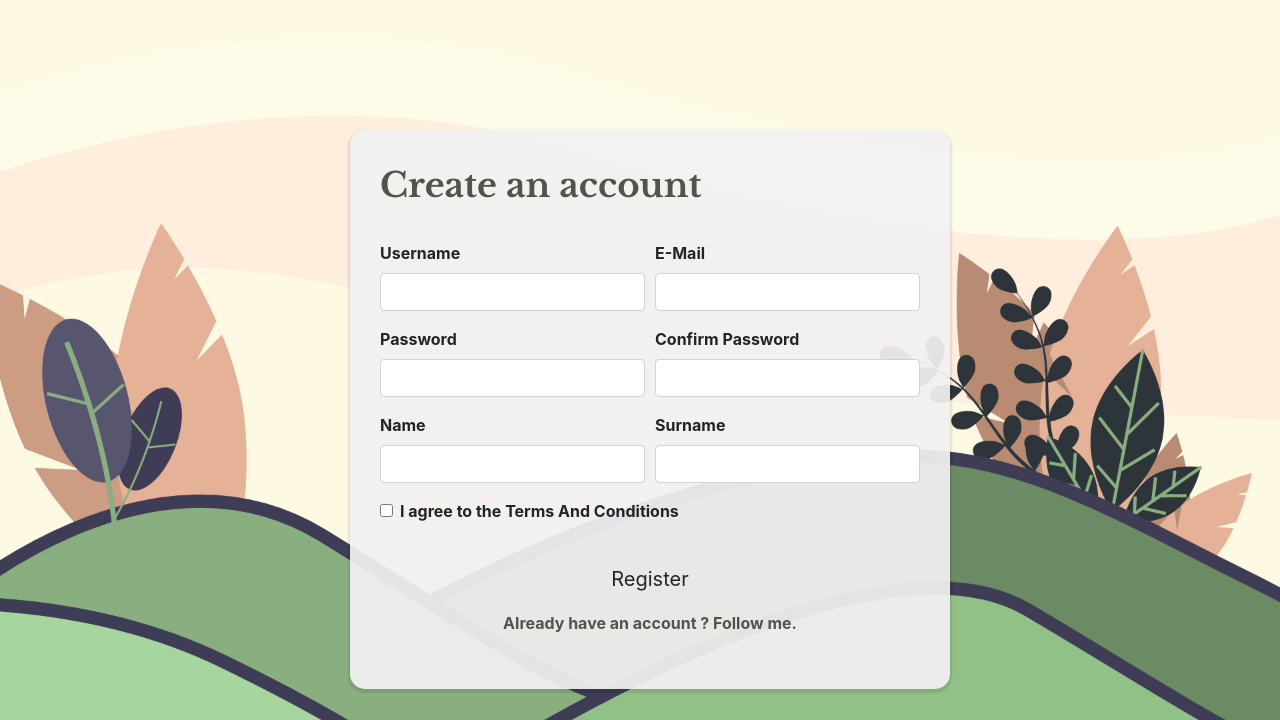
Test case: handleChange works correctly and sends error message for wrong Email
Type "max" into the field named "E-Mail" at (788,292), box x1=655 y1=273 x2=920 y2=311
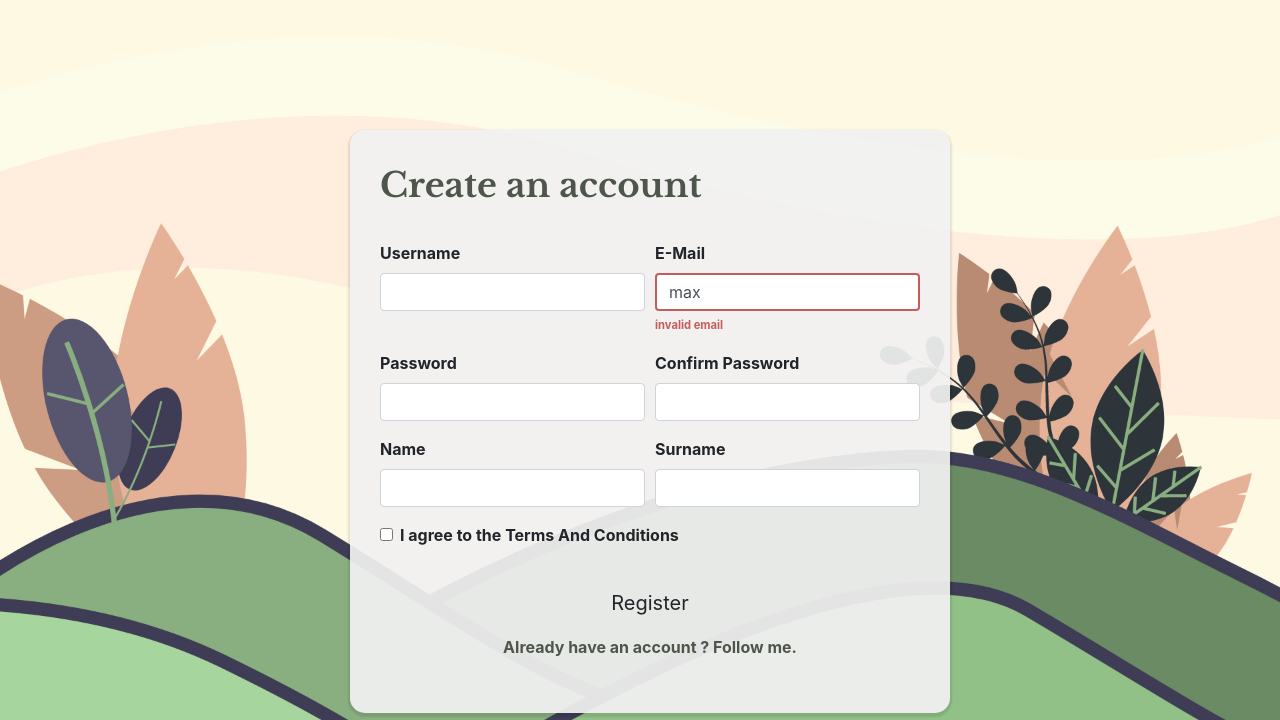
Expected: the element with test id "emailError" reads "invalid email", x1=655 y1=318 x2=723 y2=332
